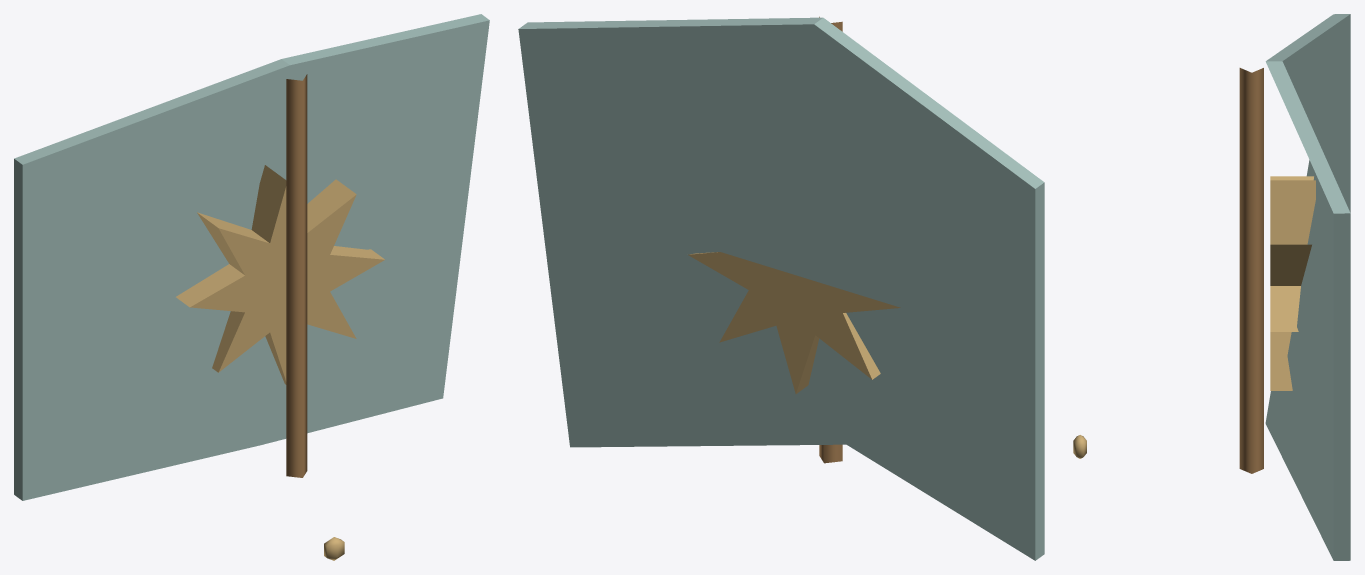
The picture shows the model from 3 angles, left to right: view 1: azimuth 30°, elevation 25°; view 2: azimuth 150°, elevation 25°; view 3: azimuth 270°, elevation 25°; orthographic projection. The views are drawn at different scales.
Visible parts, largest first — view 1: g_s48; view 2: g_s48; view 3: g_s48.
Boxes of the visible parts, x1,y1,x2,y2 form: g_s48: [14, 14, 489, 560]; g_s48: [518, 16, 1044, 560]; g_s48: [1073, 14, 1350, 560].
Bounding box in the file's own units: 0.3441 × 0.2934 × 0.1751.
